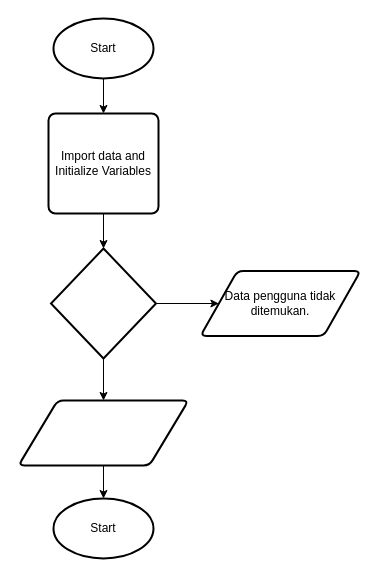
This 378x576 diagram has some shape labels left out. Here are the shapes that lost their labels. From the top down, the centre of each, then its label:
At pixel 103 303: "Check the final letter of the company".
At pixel 103 432: "Displays the array and the amount of array data".
